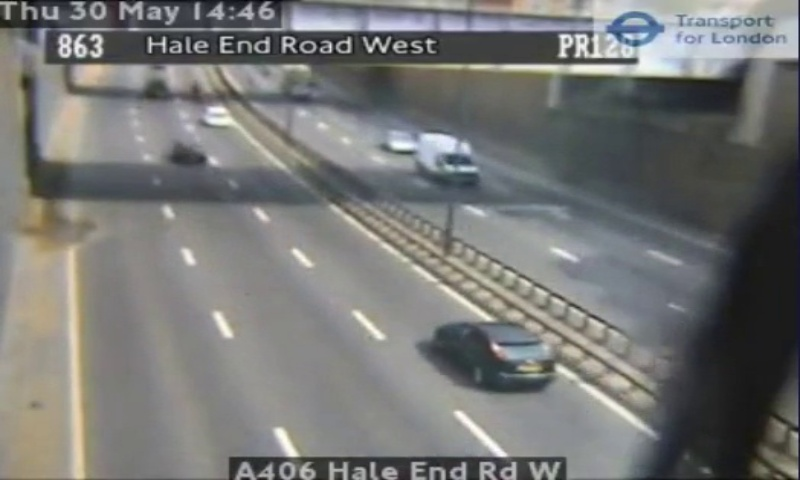car: (438, 321, 557, 388)
